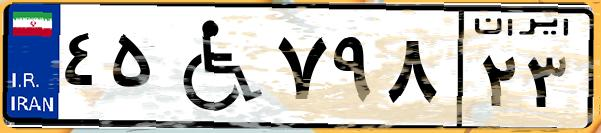2: (475, 38, 525, 113)
3: (525, 38, 570, 115)
4: (57, 26, 110, 100)
5: (110, 28, 158, 98)
7: (270, 28, 330, 110)
8: (385, 28, 445, 110)
9: (330, 28, 385, 110)
ژ (معلولین و جانبازان): (158, 12, 270, 120)
